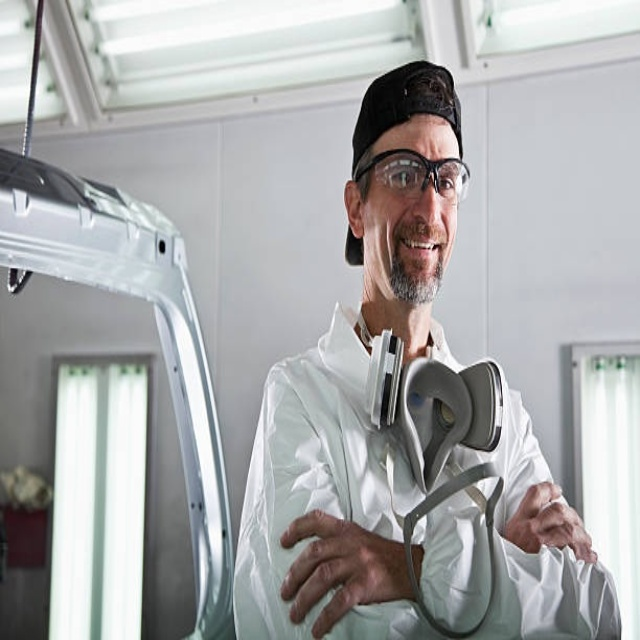Gafas: (355, 149, 472, 205)
Sin_guantes: (279, 508, 415, 638), (506, 477, 594, 561)
Sin_mascara: (393, 221, 449, 287)
